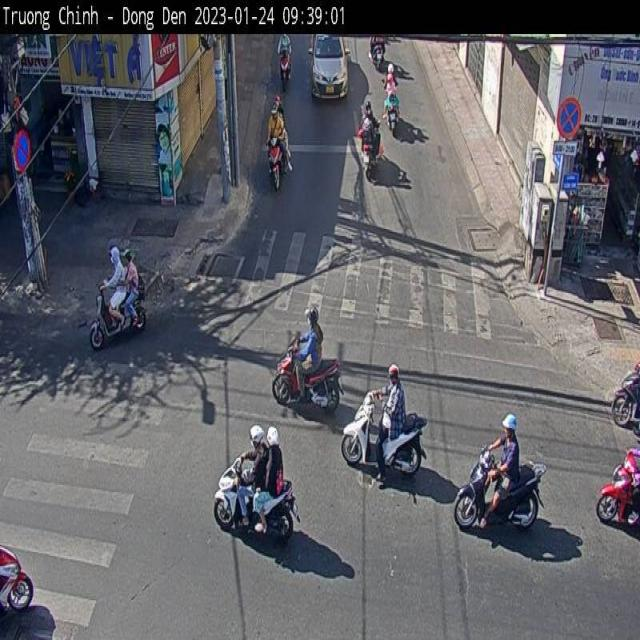helmet: (300, 286, 327, 321), (497, 399, 521, 438), (382, 368, 406, 398), (249, 413, 266, 453), (265, 420, 283, 457)
